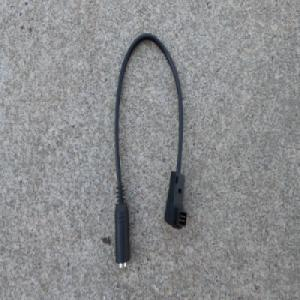Wire: (112, 31, 188, 270)
